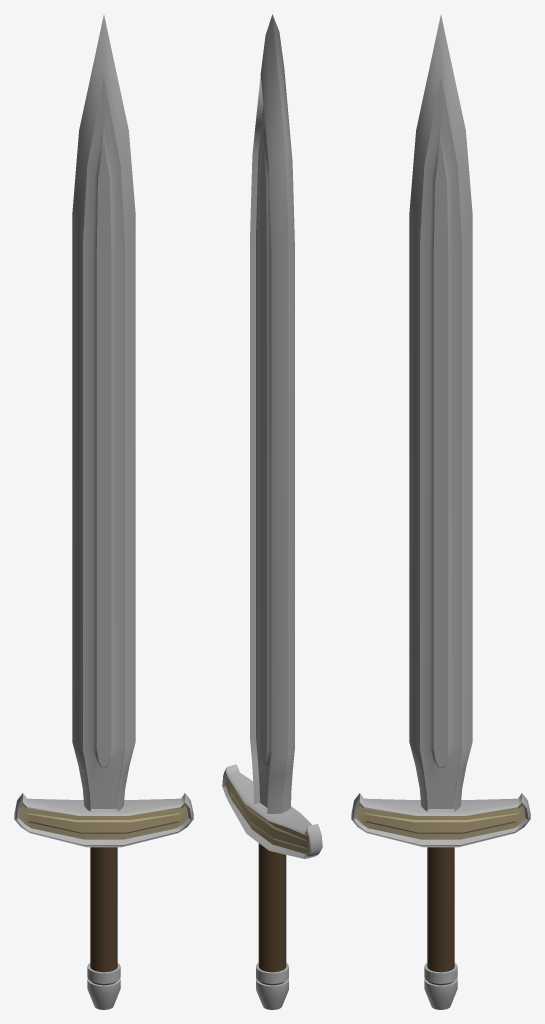
File: Sword.fbx
3 renders of one model, left to right at view 1: azimuth 90°, elevation 25°; view 2: azimuth 210°, elevation 25°; view 3: azimuth 270°, elevation 25°, orthographic.
Visible parts, largest first — view 1: pCylinder2; view 2: pCylinder2; view 3: pCylinder2.
Part boxes in pixels (x1,y1,x2,y2): pCylinder2: (14,15,193,1009); pCylinder2: (222,14,322,1009); pCylinder2: (351,15,530,1009).
Size of the model in its own units: 0.2683 by 1.3 by 7.92.
